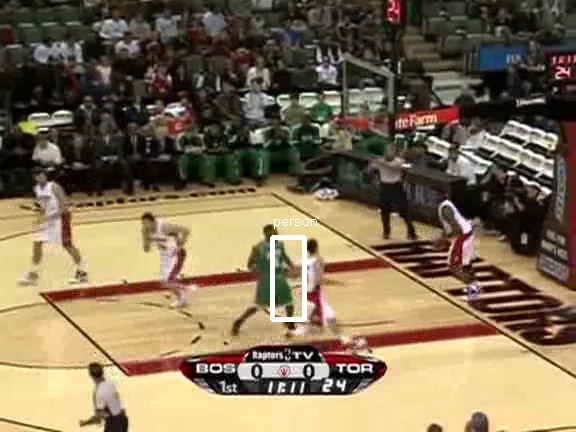person: (258, 232, 292, 313), (257, 232, 291, 313), (259, 232, 293, 313), (258, 231, 292, 312), (258, 233, 292, 314)
target_negative: (28, 81, 295, 328), (185, 82, 554, 231), (182, 258, 428, 400), (487, 108, 557, 374), (562, 357, 569, 405), (215, 419, 223, 432)
